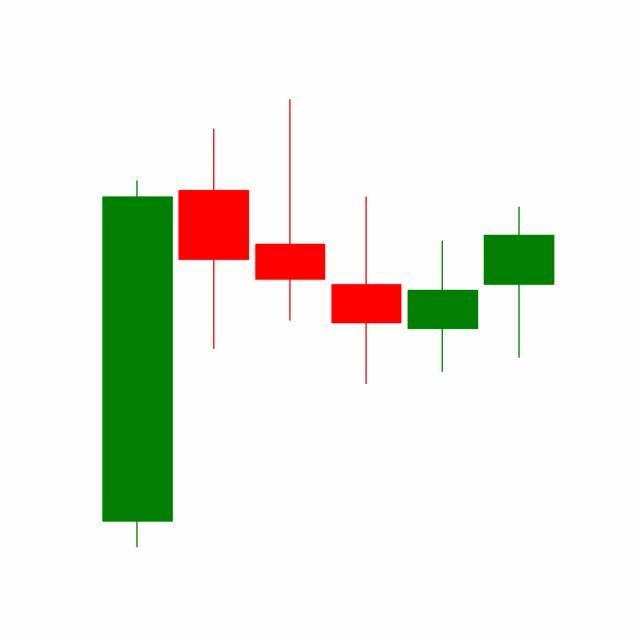Hikkake Pattern: (175, 99, 555, 389)
